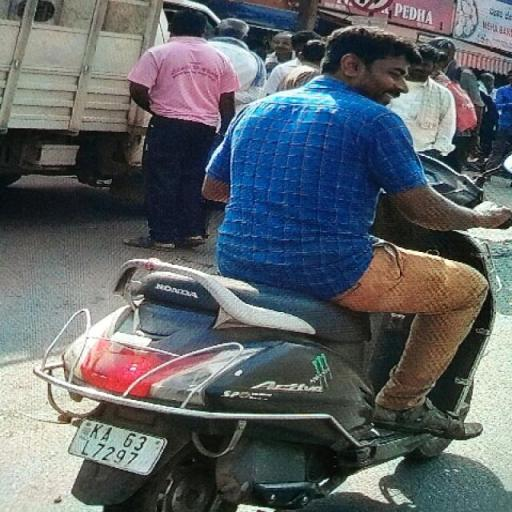bike: (34, 15, 510, 512)
numberplate: (66, 410, 165, 476)
withouthelmet: (320, 20, 412, 100)
